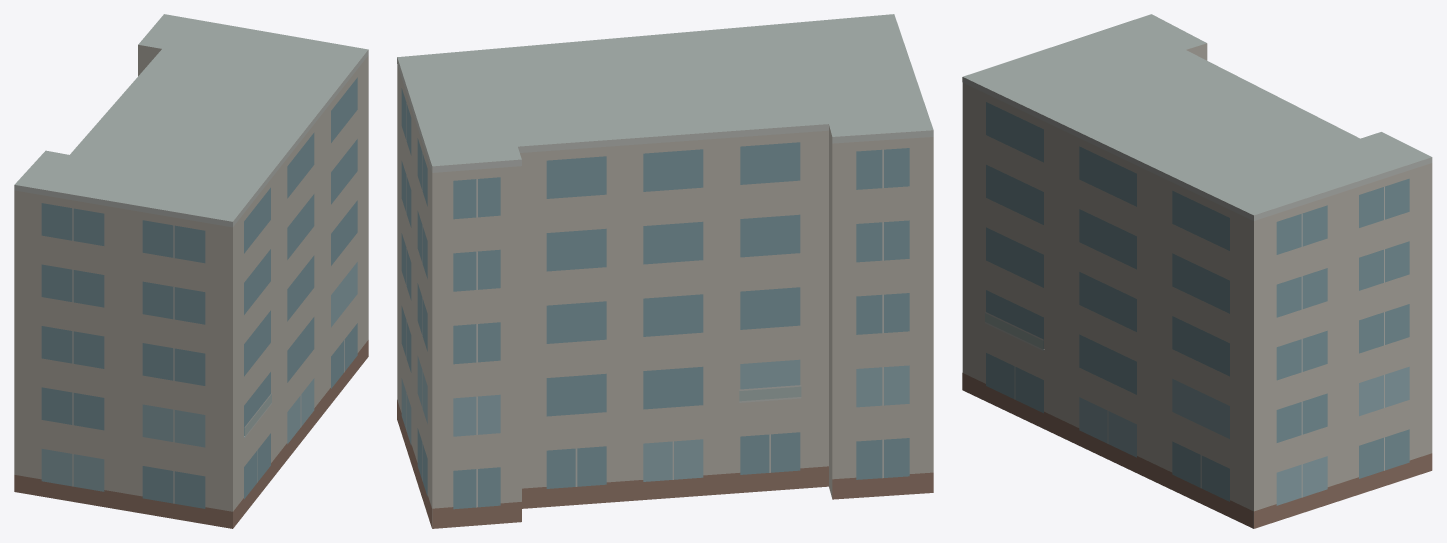
Rendered from survey-upis-32980027.glb.
3 renders of one model, left to right at view 1: azimuth 30°, elevation 25°; view 2: azimuth 150°, elevation 25°; view 3: azimuth 270°, elevation 25°, orthographic. The views are drawn at different scales.
Visible parts, largest first — view 1: survey-upis-32980027.tmp; view 2: survey-upis-32980027.tmp; view 3: survey-upis-32980027.tmp.
Boxes of the visible parts, <box> form: survey-upis-32980027.tmp: <box>14,14,368,528</box>; survey-upis-32980027.tmp: <box>397,14,933,528</box>; survey-upis-32980027.tmp: <box>962,14,1432,528</box>.
Size of the model in its own units: 18.47 by 13.4 by 18.21.
